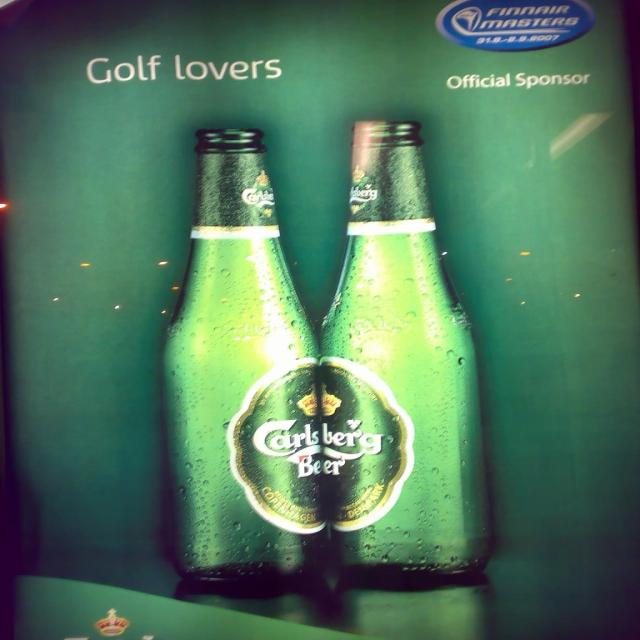carlsberg: (227, 356, 329, 538), (314, 355, 416, 530), (239, 166, 281, 222), (347, 162, 385, 216)
